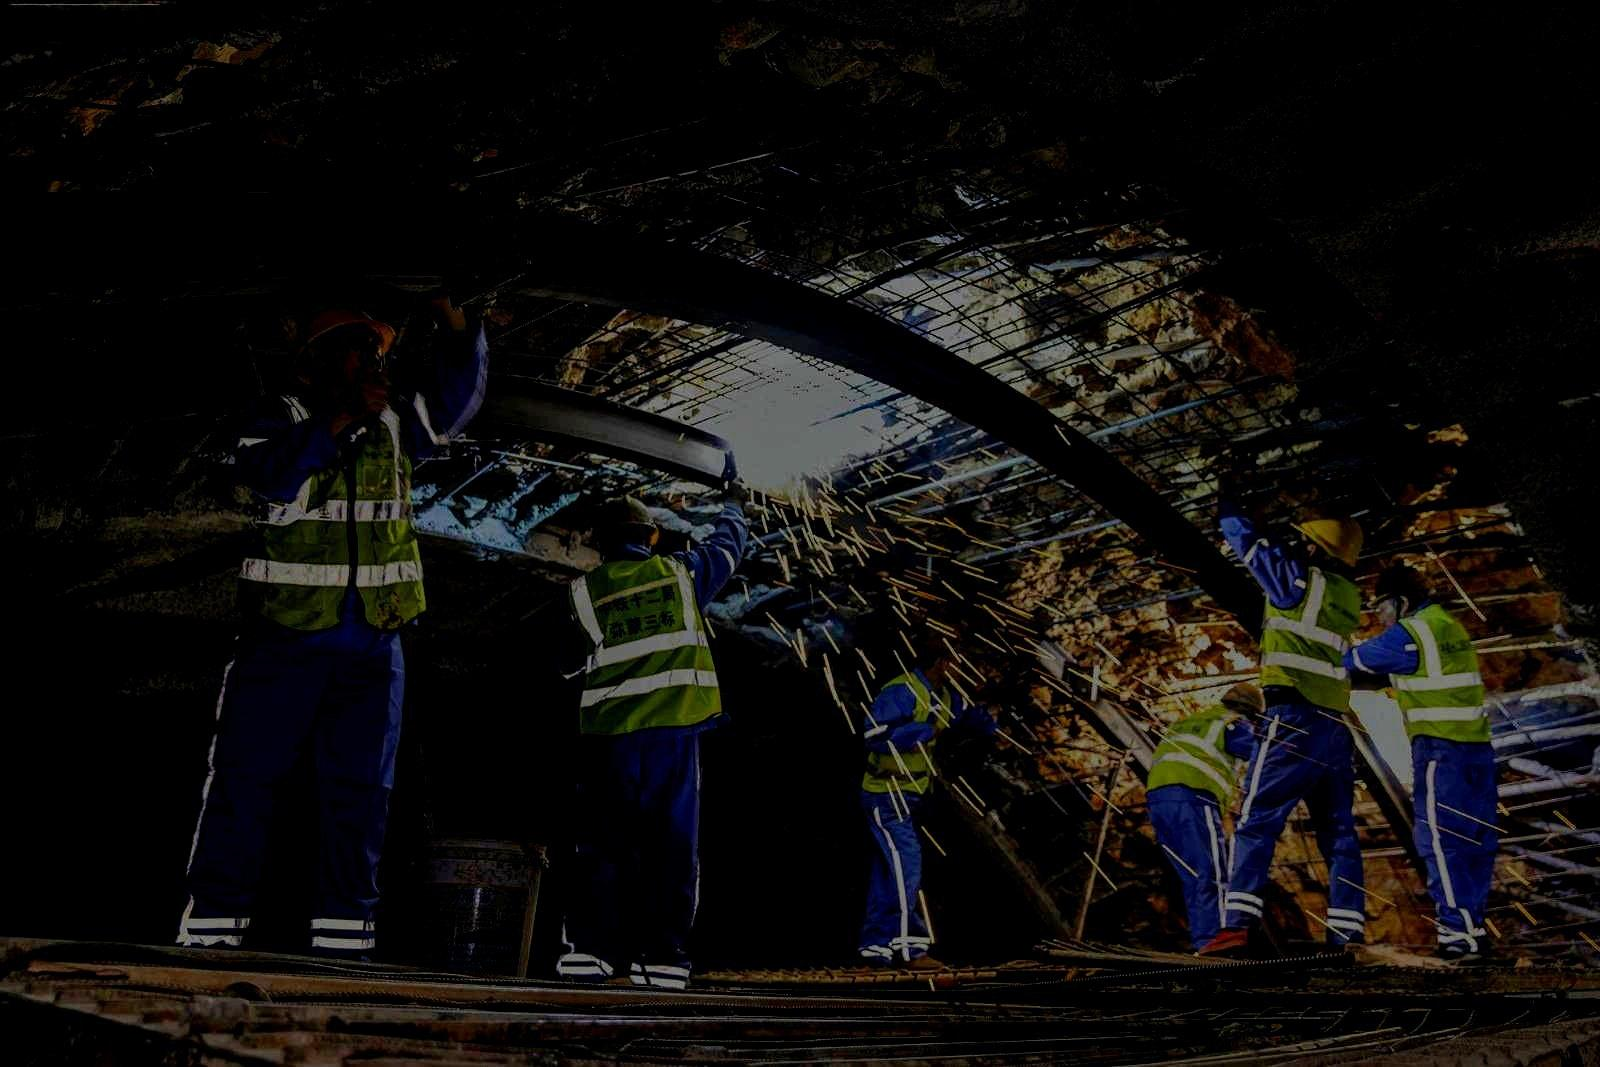helmet: (290, 300, 396, 383), (1287, 508, 1364, 573), (590, 494, 660, 554), (1367, 566, 1432, 628), (1221, 684, 1265, 723)
